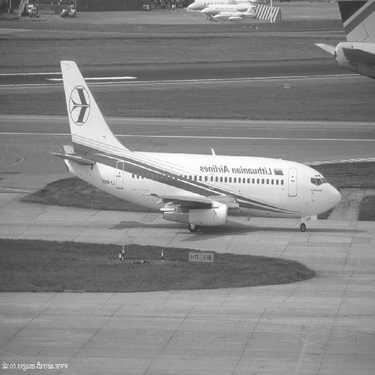airplane: (48, 51, 346, 239), (312, 1, 371, 95), (208, 9, 268, 26), (194, 4, 262, 17), (190, 1, 255, 10)
